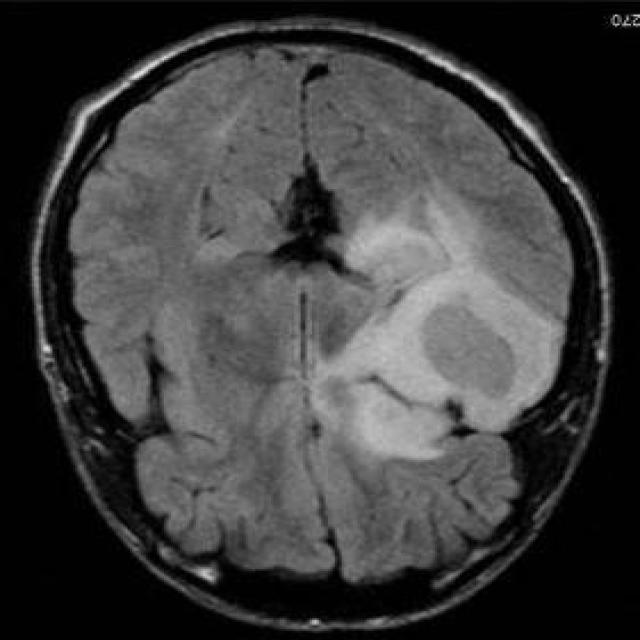Tumor-Cell: (358, 267, 551, 443)
